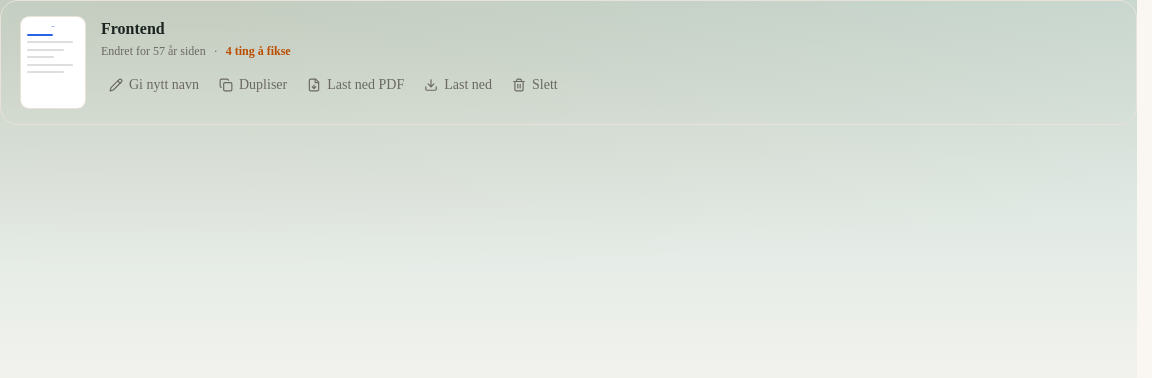
Test: CvCard › can back out of deleting
Step 1. Click the button "Slett" → (535, 85), box [504,71,566,99]
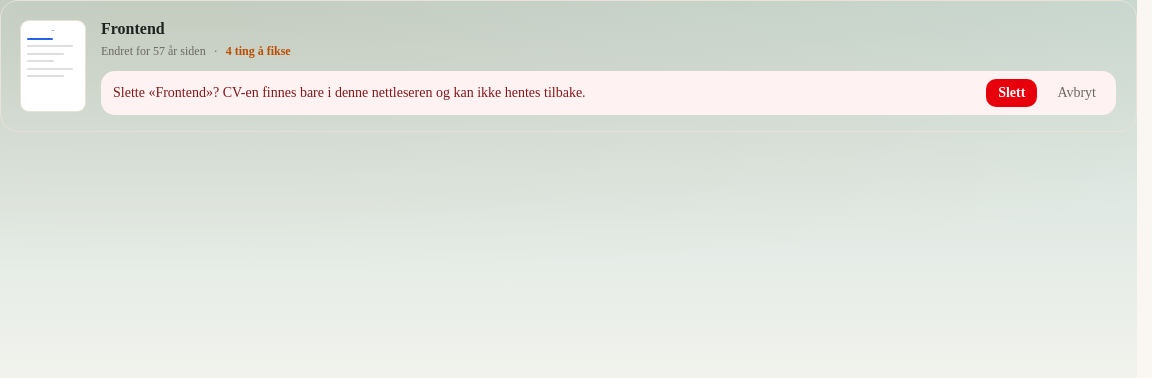
Step 2. Click the button "Avbryt" → (1077, 93), box [1049,79,1104,107]
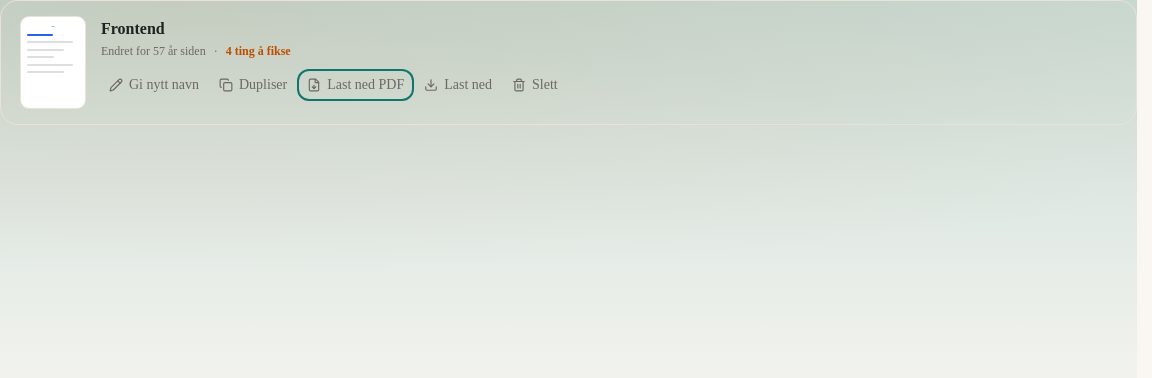
Check: the button "Dupliser" is shown, box [211,71,295,99]
